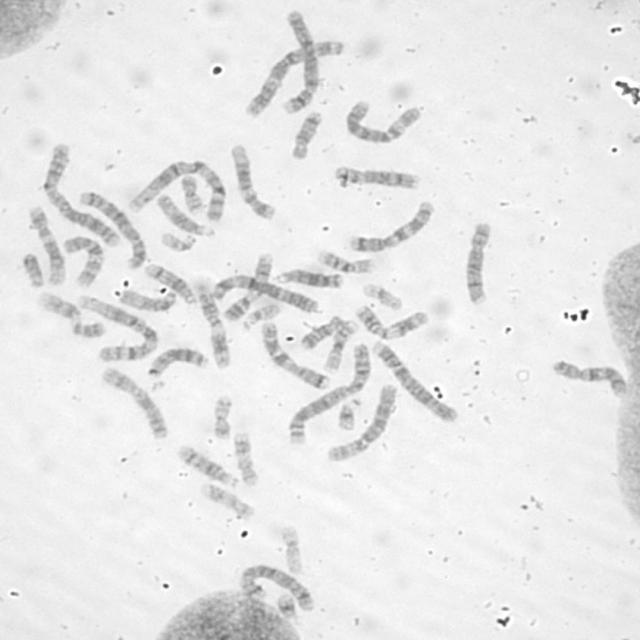A1: (124, 158, 228, 226), (77, 292, 160, 362)
A2: (285, 341, 372, 445), (39, 142, 121, 250)
A3: (241, 39, 345, 121), (209, 273, 319, 317)
B4: (368, 336, 459, 422), (284, 9, 320, 116)
B5: (77, 190, 148, 270), (239, 562, 317, 616)
C10: (548, 356, 630, 398), (60, 234, 107, 288)
C11: (191, 282, 235, 368), (353, 302, 431, 340)
C12: (228, 142, 278, 222), (25, 205, 66, 286)
C6: (325, 382, 398, 464), (343, 99, 424, 145)
C7: (260, 319, 330, 392), (348, 200, 436, 255)
C8: (464, 220, 494, 306), (332, 165, 422, 193)
C9: (222, 250, 274, 323), (39, 293, 107, 339)
D13: (142, 347, 211, 379), (269, 266, 344, 291)
D14: (174, 442, 242, 486), (142, 261, 198, 307)
D15: (156, 192, 218, 238), (118, 285, 179, 314)
E16: (322, 320, 360, 374), (316, 248, 375, 274)
E17: (201, 481, 255, 521), (232, 431, 260, 486)
E18: (290, 109, 324, 161), (300, 314, 342, 352)
F19: (276, 524, 306, 575), (361, 280, 406, 312)
F20: (177, 173, 207, 216), (212, 394, 235, 439)
G21: (271, 592, 301, 624), (337, 396, 363, 432)
G22: (240, 303, 282, 330), (158, 230, 198, 253)
X: (98, 364, 170, 440)
Y: (21, 251, 45, 290)
